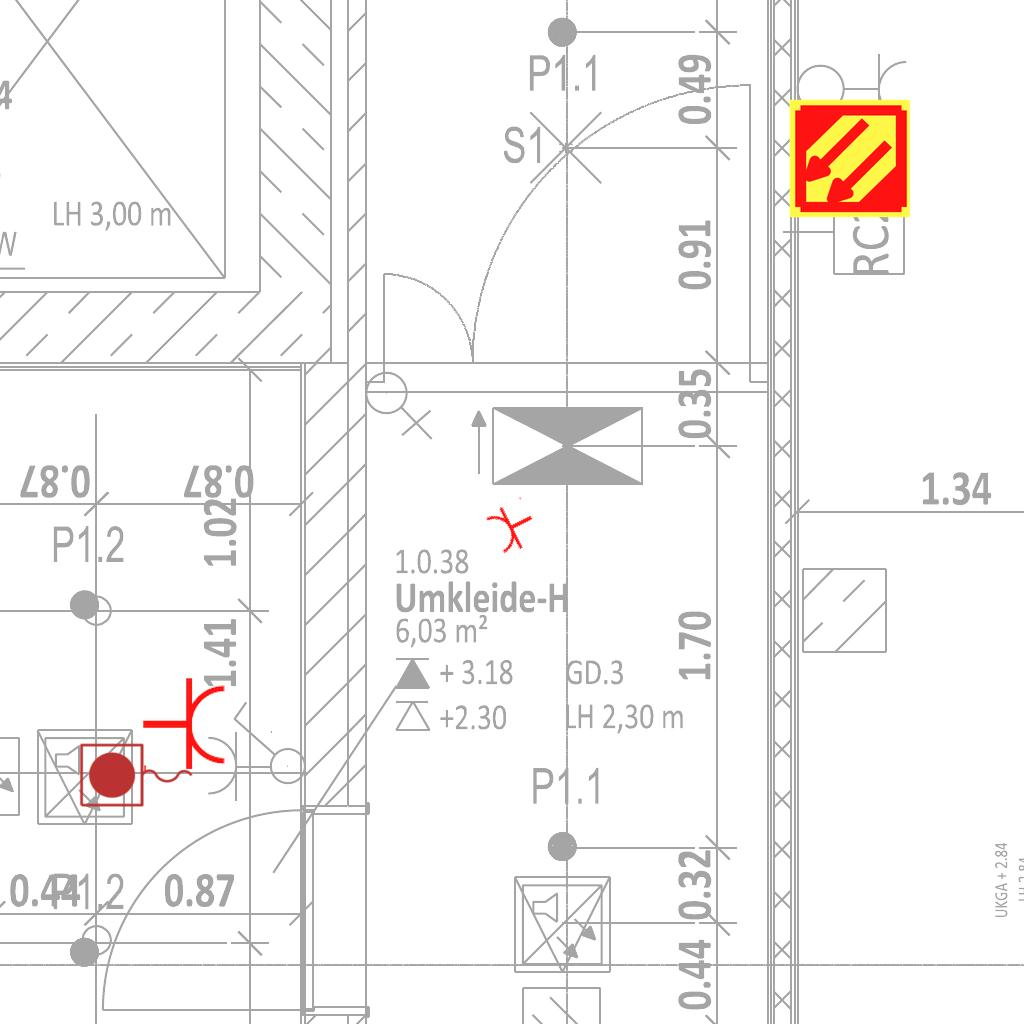ASR_Ansaugrauchmelder: (787, 96, 912, 221)
Schukosteckdose_einfach: (141, 676, 228, 776), (481, 493, 544, 559)
Zugtaster: (76, 740, 198, 812)
